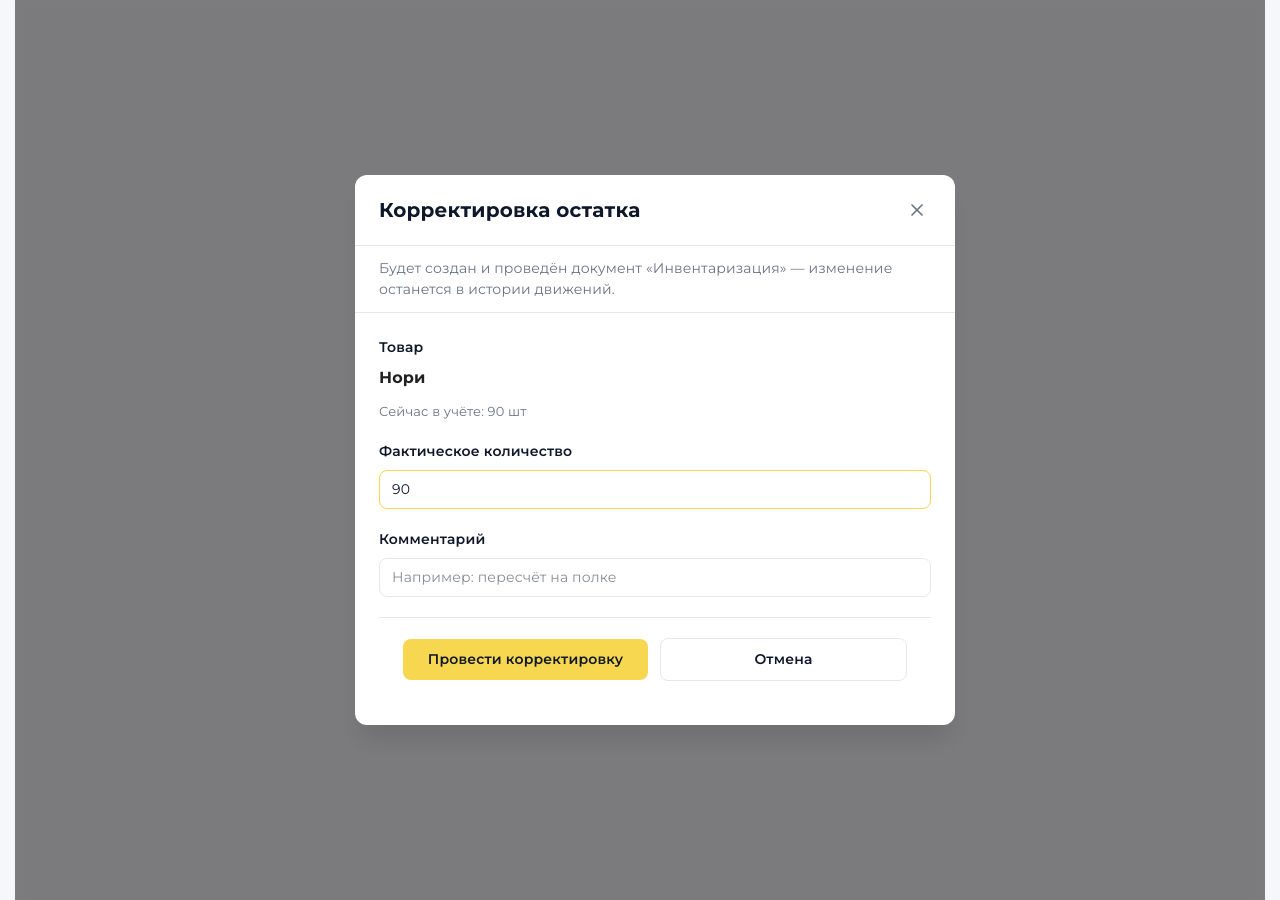
Test: StockAdjustmentModal › показывает ошибку бэкенда
This screenshot has width=1280, height=900.
Replace the text in the field labelled "Фактическое количество" with "10". click: x=655, y=490
box: top-left (379, 470), bottom-right (931, 509)
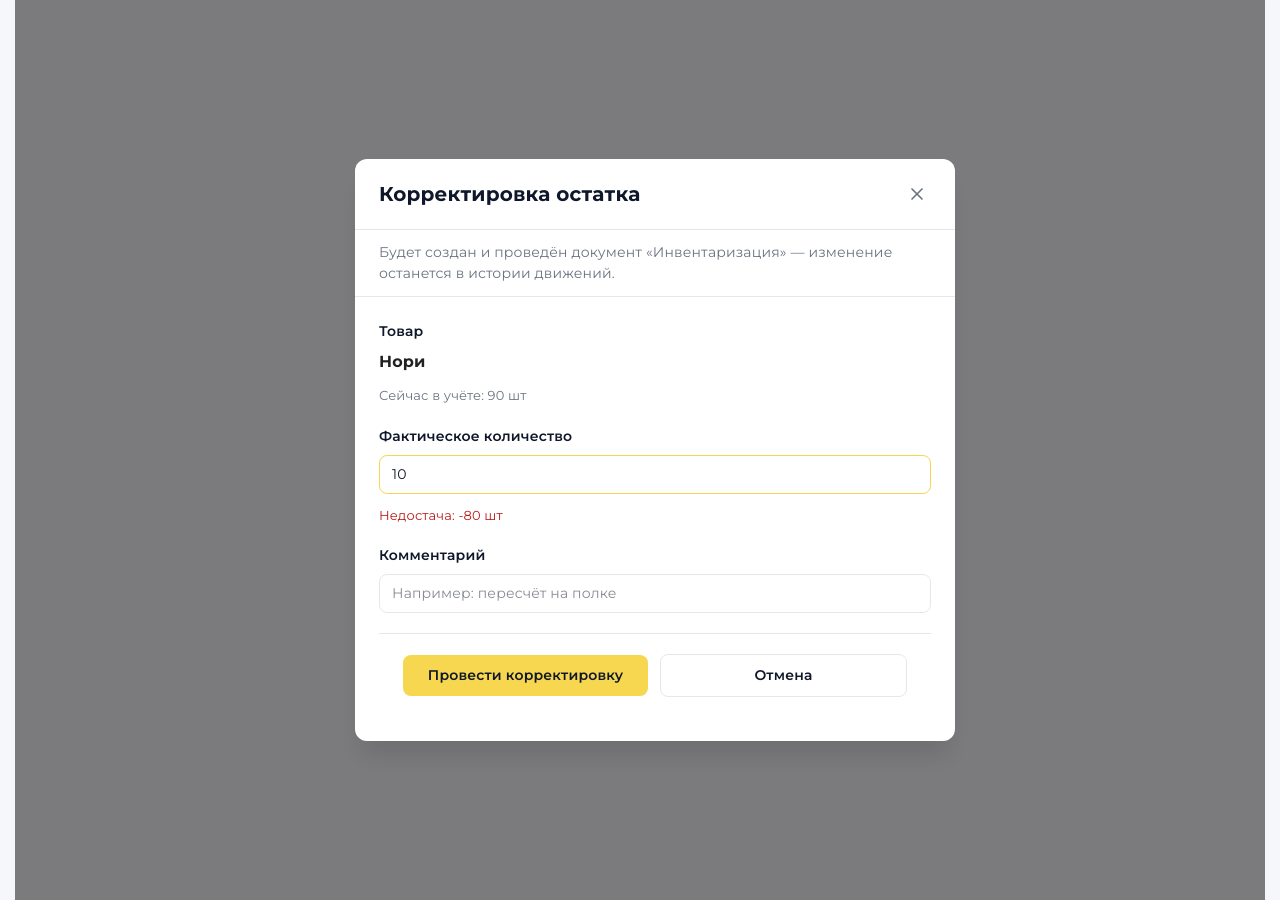
Click the button "Провести корректировку". click: x=526, y=676
box: top-left (403, 655), bottom-right (648, 696)
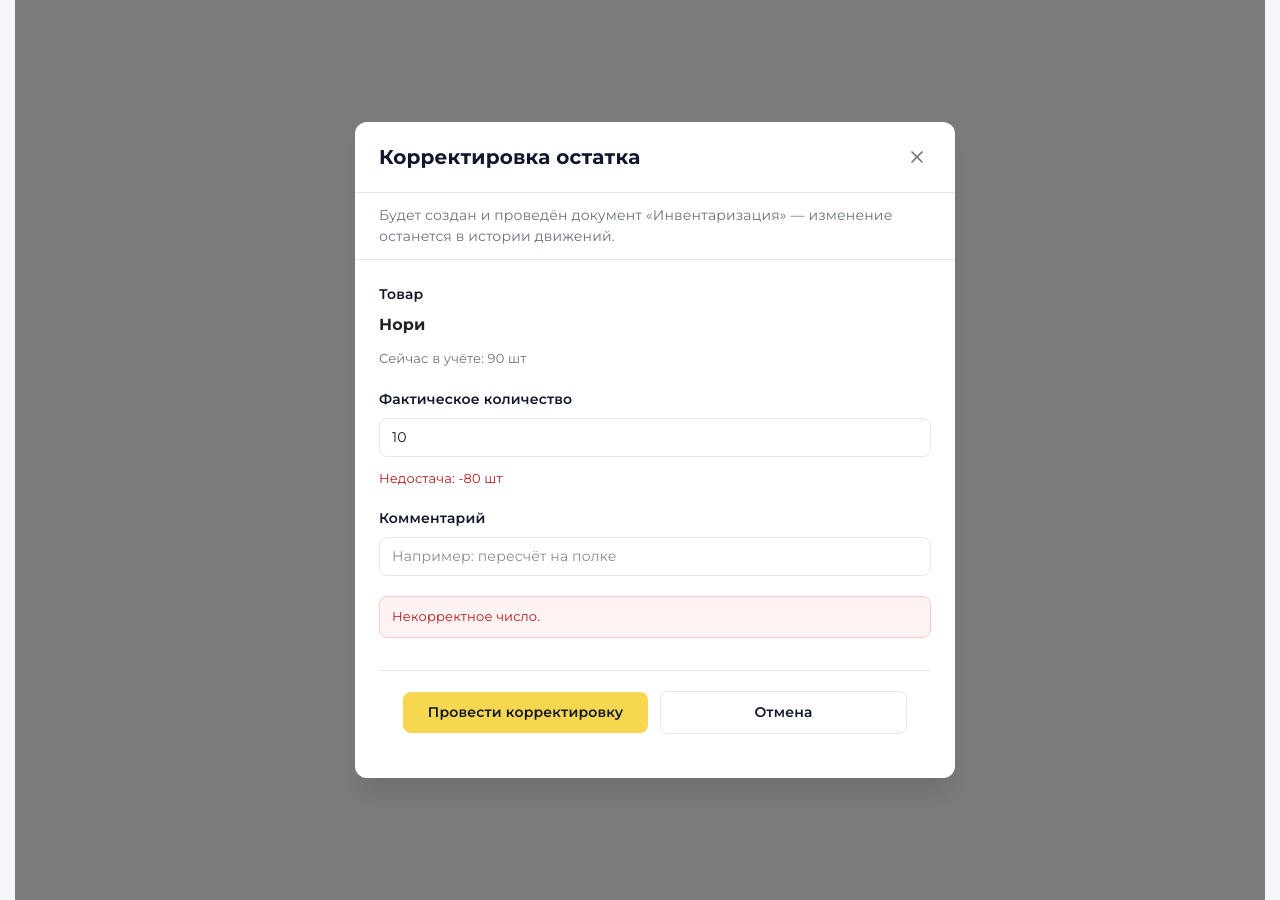
Expected: the message reads "Некорректное число.", top-left (392, 608), bottom-right (540, 624)
